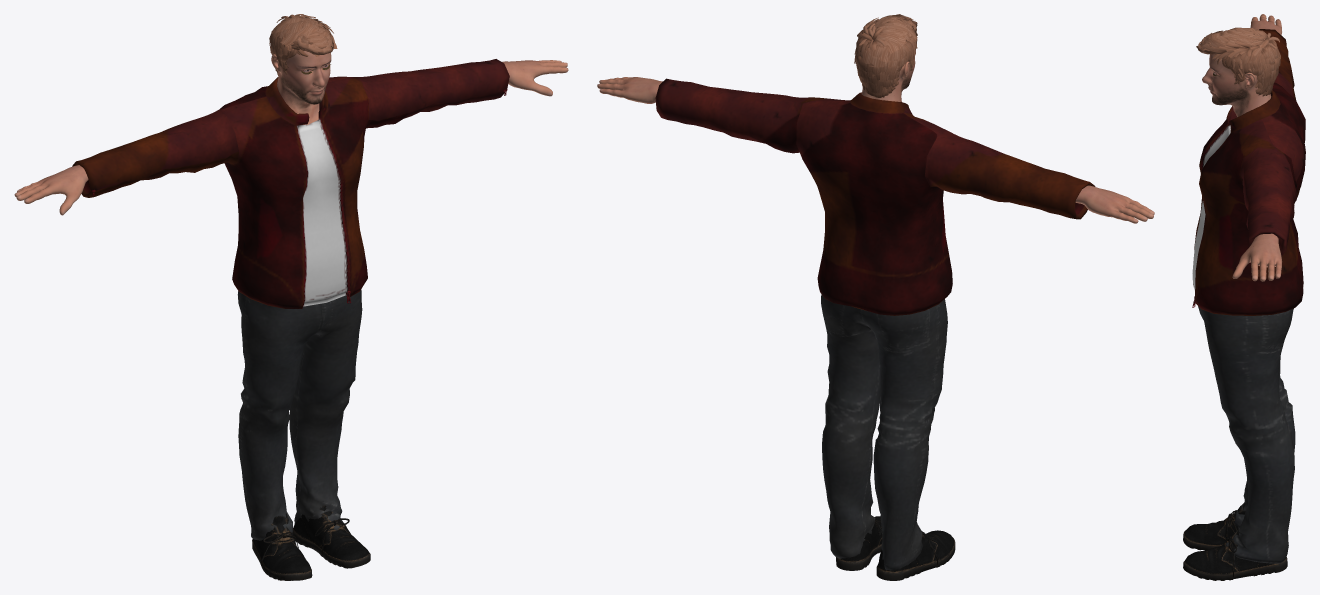
File: kitMainCharacter.obj
The picture shows the model from 3 angles, left to right: view 1: azimuth 30°, elevation 25°; view 2: azimuth 150°, elevation 25°; view 3: azimuth 270°, elevation 25°; orthographic projection.
Parts seen in each view (by area): view 1: Tops, Bottoms, Body, Shoes, Hair; view 2: Tops, Bottoms, Hair, Body, Shoes; view 3: Tops, Bottoms, Body, Shoes, Hair.
Part boxes in pixels (left/top/right/bottom): Tops: left=72, top=59, right=509, bottom=308; Bottoms: left=237, top=289, right=362, bottom=540; Body: left=14, top=51, right=568, bottom=215; Shoes: left=252, top=505, right=370, bottom=580; Hair: left=269, top=14, right=337, bottom=75; Tops: left=655, top=78, right=1095, bottom=315; Bottoms: left=821, top=294, right=947, bottom=570; Hair: left=854, top=14, right=917, bottom=97; Body: left=597, top=50, right=1154, bottom=223; Shoes: left=836, top=516, right=955, bottom=580; Tops: left=1192, top=29, right=1305, bottom=315; Bottoms: left=1198, top=306, right=1295, bottom=563; Body: left=1202, top=14, right=1282, bottom=281; Shoes: left=1183, top=502, right=1287, bottom=580; Hair: left=1196, top=27, right=1280, bottom=96.
Bounding box in the file's own units: 196 × 183 × 38.49.
1 material, 1 textured.
